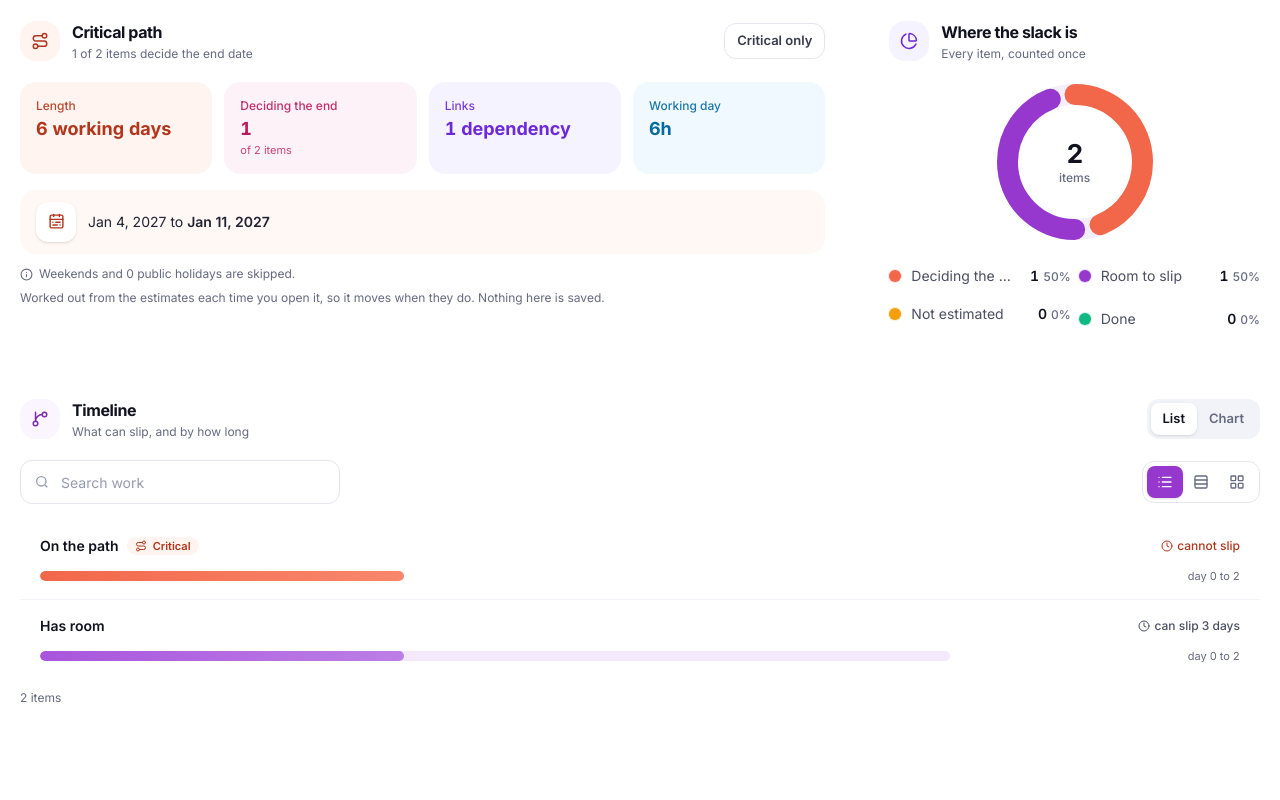
Scenario: SchedulePanel › filters to the critical path on request
This screenshot has width=1280, height=800.
Check: the text "Has room" is shown, box [40,616,105,636]
Click the button "Critical only". click: point(775, 41)
box: [724,23,825,59]
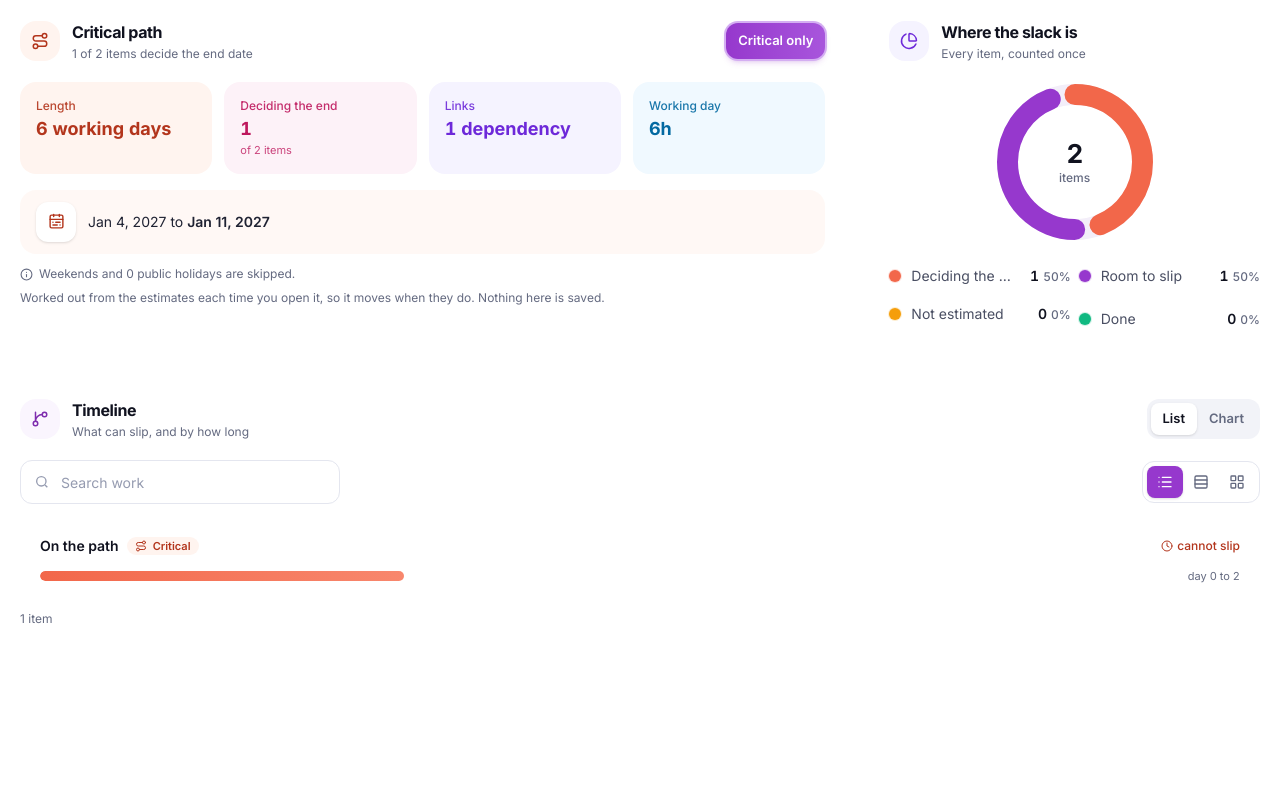
Check: the text "On the path" is shown, box [40,536,119,556]
Check: the text "Has room" is gone
